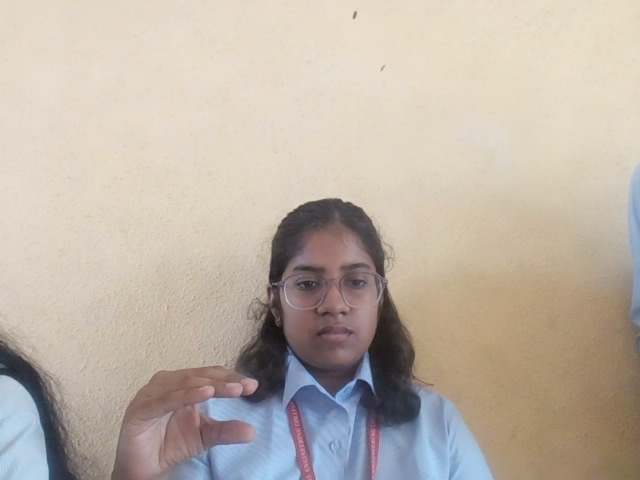No: (111, 362, 261, 480)
